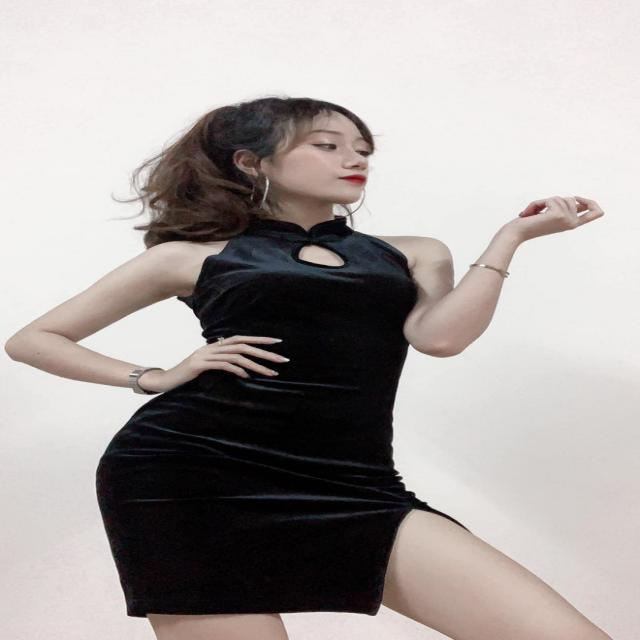clothes: (91, 204, 482, 616)
